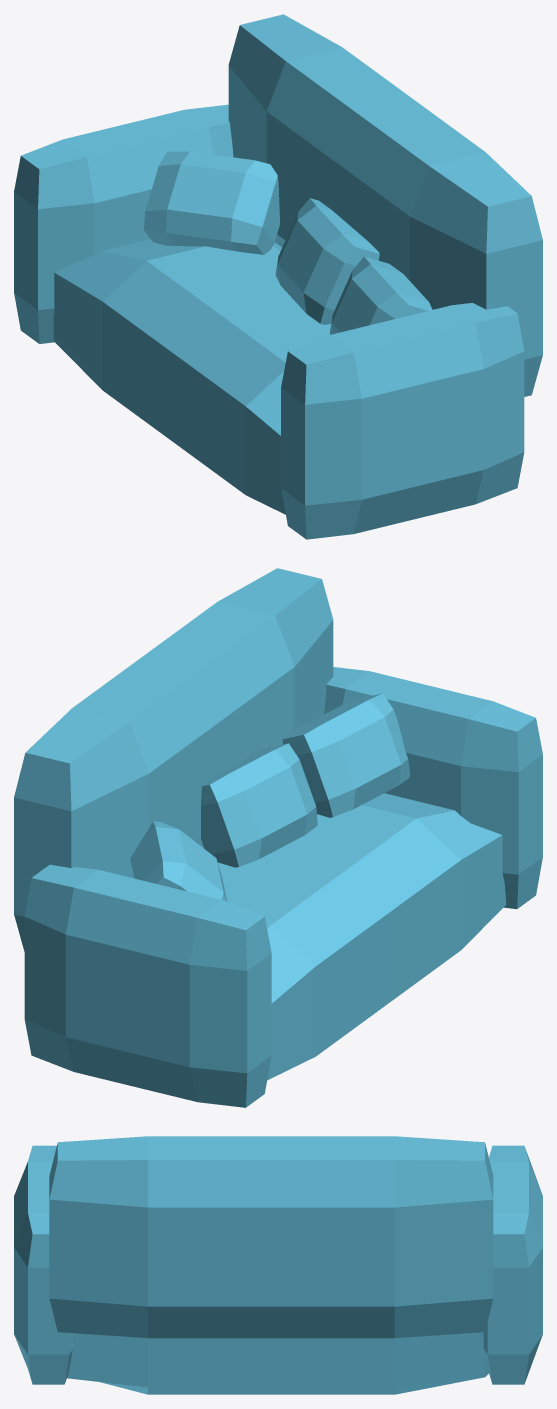
Rendered from Диван_Обычный.fbx.
3 views of the same model, one above another, from view 1: azimuth 30°, elevation 25°; view 2: azimuth 150°, elevation 25°; view 3: azimuth 270°, elevation 25° (orthographic). The views are drawn at different scales.
Visible parts, largest first — view 1: Диван.004, Диван.006, Диван.005, Диван, Диван.001, Диван.002, Диван.003; view 2: Диван.004, Диван, Диван.005, Диван.006, Диван.002, Диван.003, Диван.001; view 3: Диван.004, Диван.005, Диван, Диван.006.
Boxes of the visible parts, x1,y1,x2,y2 form: Диван.004: (228, 14, 542, 396); Диван.006: (281, 303, 524, 539); Диван.005: (53, 239, 330, 514); Диван: (14, 104, 233, 343); Диван.001: (144, 151, 279, 254); Диван.002: (275, 198, 379, 324); Диван.003: (330, 256, 432, 334); Диван.004: (14, 568, 333, 951); Диван: (24, 864, 271, 1107); Диван.005: (217, 793, 506, 1080); Диван.006: (324, 667, 542, 909); Диван.002: (201, 743, 317, 867); Диван.003: (282, 693, 409, 817); Диван.001: (130, 821, 227, 901); Диван.004: (49, 1136, 493, 1338); Диван.005: (67, 1332, 488, 1394); Диван: (483, 1145, 542, 1384); Диван.006: (14, 1145, 72, 1384).
Bounding box in the file's own units: 380 × 424 × 751.
